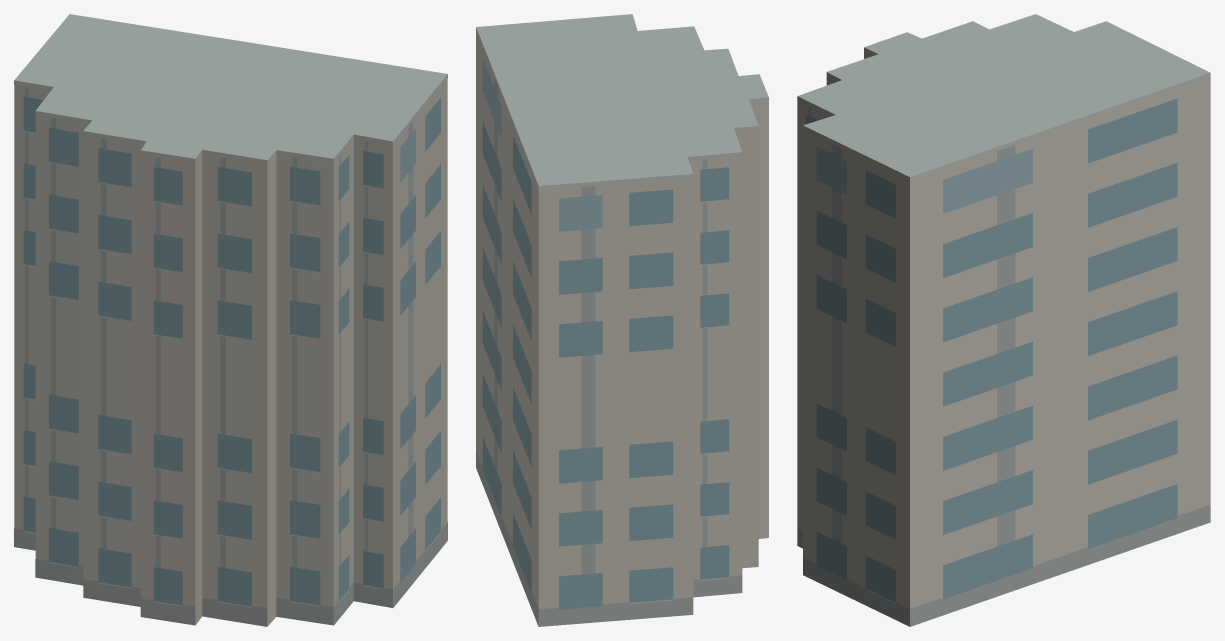
The model's file is survey-upis-32910063.glb.
3 views of the same model, side by side, from view 1: azimuth 30°, elevation 25°; view 2: azimuth 150°, elevation 25°; view 3: azimuth 270°, elevation 25° (orthographic). The views are drawn at different scales.
Parts seen in each view (by area): view 1: survey-upis-32910063.tmp; view 2: survey-upis-32910063.tmp; view 3: survey-upis-32910063.tmp.
Boxes of the visible parts, x1=… form: survey-upis-32910063.tmp: x1=14, y1=14, x2=447, y2=626; survey-upis-32910063.tmp: x1=476, y1=14, x2=768, y2=626; survey-upis-32910063.tmp: x1=797, y1=14, x2=1210, y2=626.
Size of the model in its own units: 19.58 by 25.15 by 20.95.
